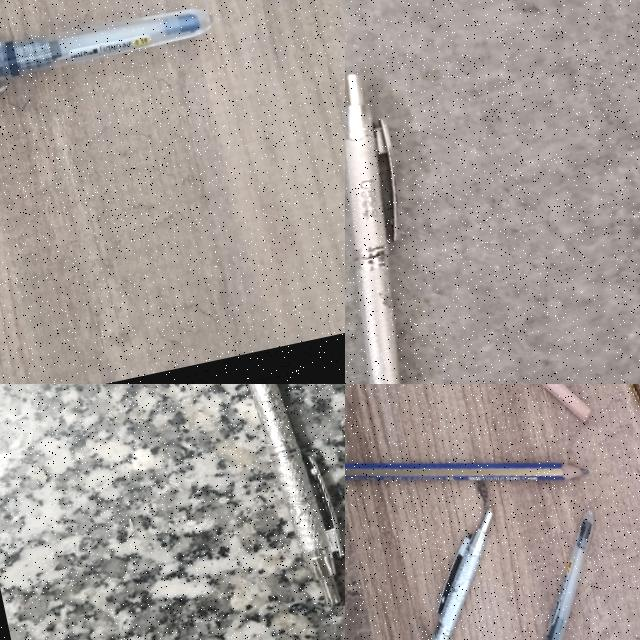pen: (455, 511, 640, 640), (0, 10, 212, 81)
pencil: (345, 408, 571, 533)
signature pen: (249, 384, 343, 605), (345, 75, 400, 383), (432, 509, 491, 640)
